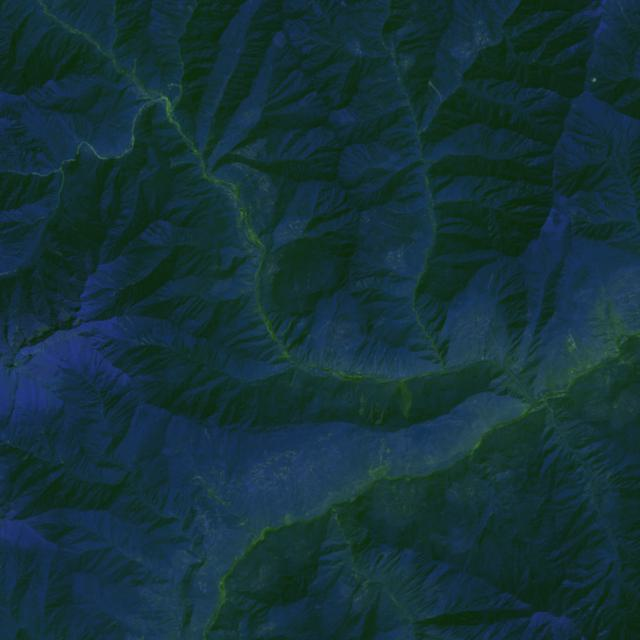landslides: (376, 383, 396, 426), (619, 2, 640, 34), (358, 381, 376, 414), (398, 380, 412, 420), (379, 438, 391, 476), (428, 81, 446, 104), (170, 157, 198, 170), (116, 319, 128, 333), (388, 208, 412, 214), (125, 315, 135, 328), (204, 429, 212, 445), (527, 310, 536, 323)
